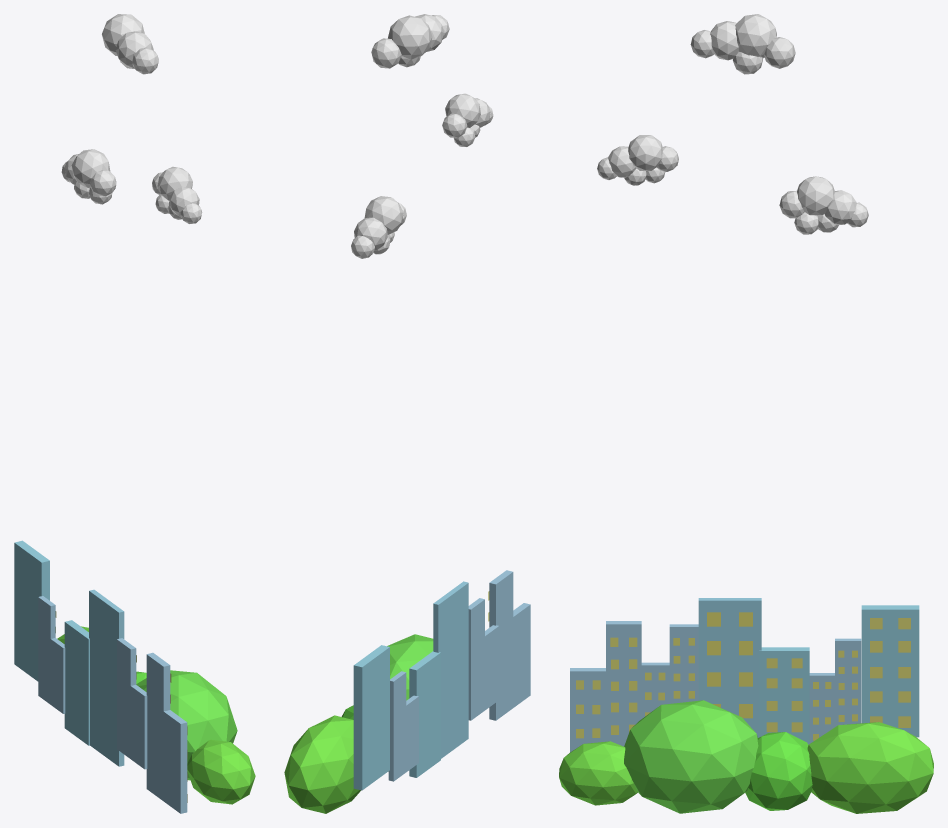
The model's file is background.glb.
3 renders of one model, left to right at view 1: azimuth 30°, elevation 25°; view 2: azimuth 150°, elevation 25°; view 3: azimuth 270°, elevation 25°, orthographic. The views are drawn at different scales.
Parts seen in each view (by area): view 1: building1, building2, bush2, building3.001, bush1, building1.002, building3, building1.001, cloud_2, cloud_1.001, cloud_1; view 2: bush4, building2, building3.001, building1, building1.002, building3, cloud_2, building1.001, cloud_1.001, cloud_1, bush2; view 3: bush2, bush4, building2, building3.001, building1, building3, bush3, cloud_2, building1.001, bush1, building1.002, cloud_1.001 (+1 smaller).
Boxes of the visible parts, x1=… form: building1: x1=146, y1=652, x2=187, y2=813; building2: x1=89, y1=589, x2=124, y2=766; bush2: x1=136, y1=670, x2=237, y2=780; building3.001: x1=14, y1=540, x2=49, y2=681; bush1: x1=187, y1=739, x2=255, y2=804; building1.002: x1=117, y1=638, x2=147, y2=769; building3: x1=64, y1=620, x2=89, y2=745; building1.001: x1=38, y1=596, x2=65, y2=713; cloud_2: x1=102, y1=14, x2=158, y2=74; cloud_1.001: x1=61, y1=149, x2=116, y2=204; cloud_1: x1=152, y1=166, x2=202, y2=223; bush4: x1=284, y1=715, x2=360, y2=813; building2: x1=433, y1=581, x2=468, y2=758; building3.001: x1=353, y1=645, x2=389, y2=790; building1: x1=488, y1=570, x2=530, y2=720; building1.002: x1=468, y1=598, x2=499, y2=720; building3: x1=409, y1=651, x2=440, y2=777; cloud_2: x1=371, y1=14, x2=449, y2=68; building1.001: x1=388, y1=671, x2=418, y2=781; cloud_1.001: x1=351, y1=196, x2=406, y2=258; cloud_1: x1=442, y1=93, x2=493, y2=146; bush2: x1=387, y1=634, x2=433, y2=700; bush2: x1=624, y1=700, x2=758, y2=813; bush4: x1=807, y1=722, x2=933, y2=813; building2: x1=698, y1=598, x2=761, y2=737; building3.001: x1=861, y1=605, x2=919, y2=737; building1: x1=570, y1=621, x2=641, y2=752; building3: x1=759, y1=647, x2=809, y2=744; bush3: x1=745, y1=732, x2=812, y2=810; cloud_2: x1=690, y1=14, x2=795, y2=74; building1.001: x1=809, y1=638, x2=861, y2=743; bush1: x1=559, y1=741, x2=637, y2=805; building1.002: x1=641, y1=624, x2=698, y2=718; cloud_1.001: x1=779, y1=176, x2=868, y2=234.
Bounding box in the file's own units: 7.5 × 49.8 × 21.58.
